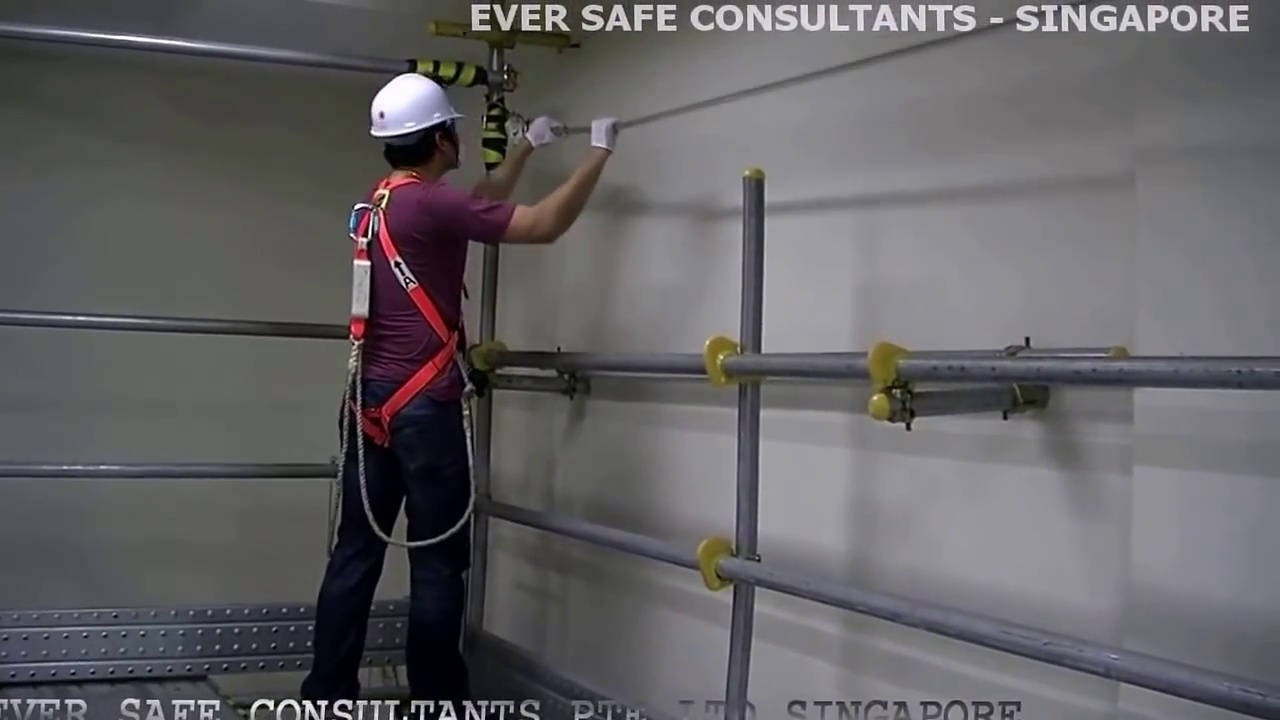harness: (344, 183, 449, 426)
helmet: (364, 75, 458, 126)
leash: (327, 447, 469, 545)
